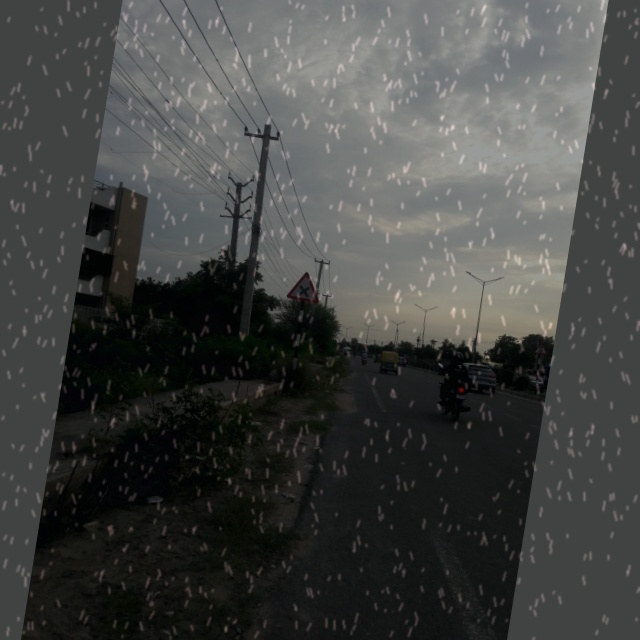Cross_Road: (284, 263, 326, 307)
